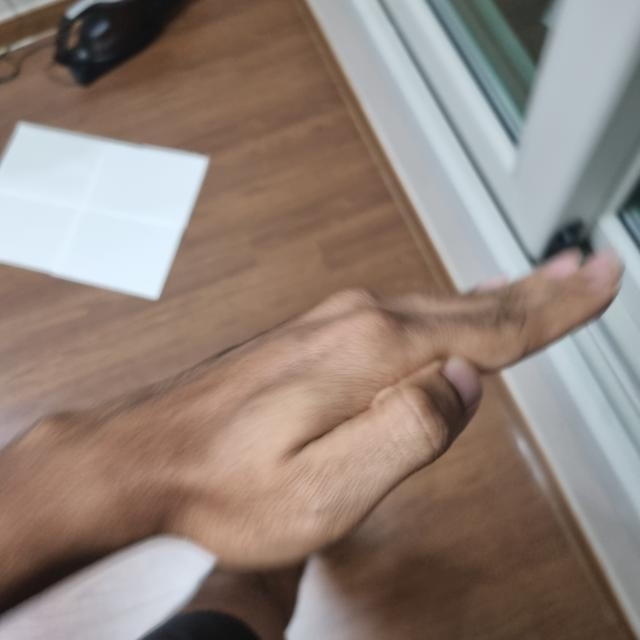Paper: (134, 255, 621, 571)
